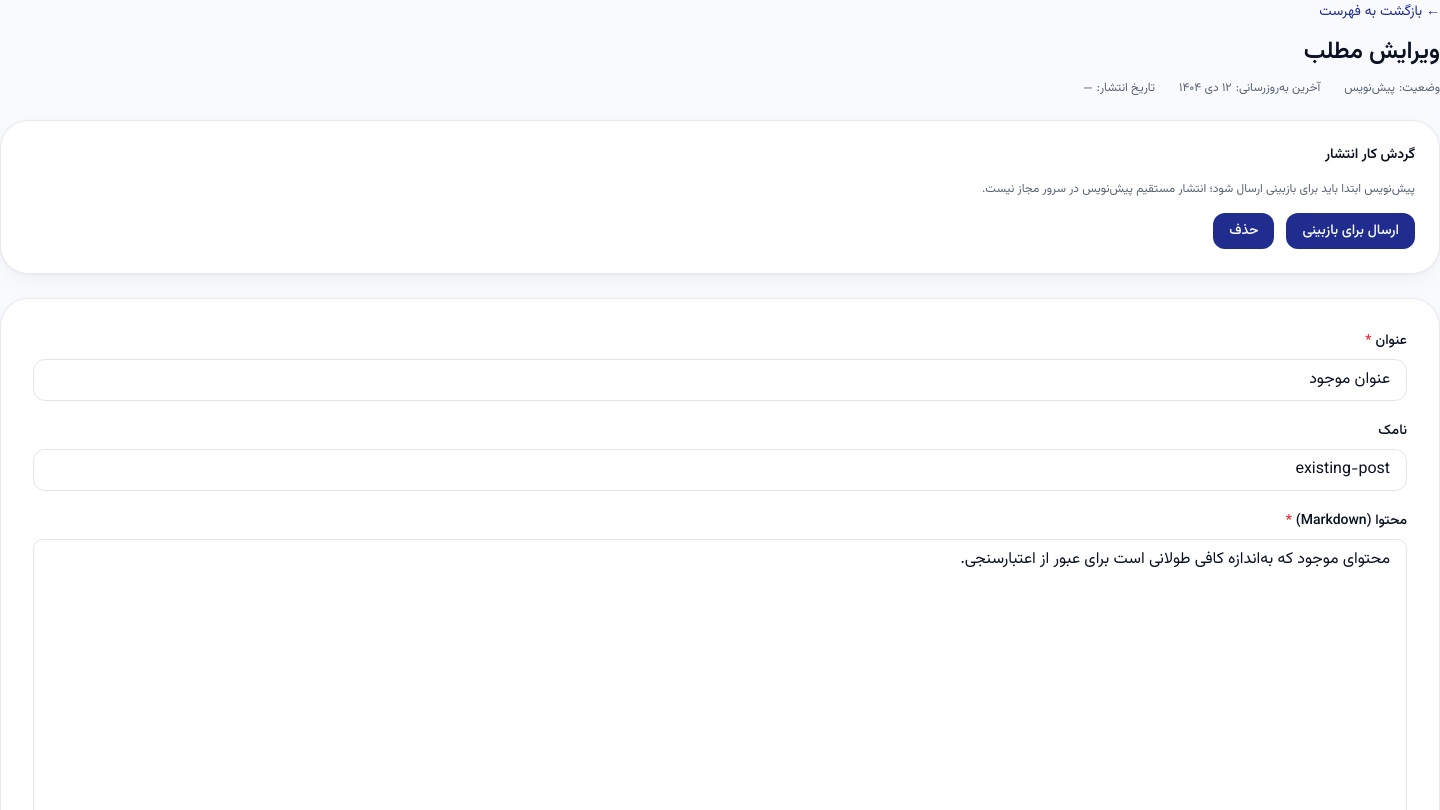
BlogEditForm › sends expectedUpdatedAt and shows a success message
Replace the text in the field showing "عنوان موجود" with "عنوان تازه" at (720,380), box top-left (33, 359), bottom-right (1407, 401)
(page scrolled)
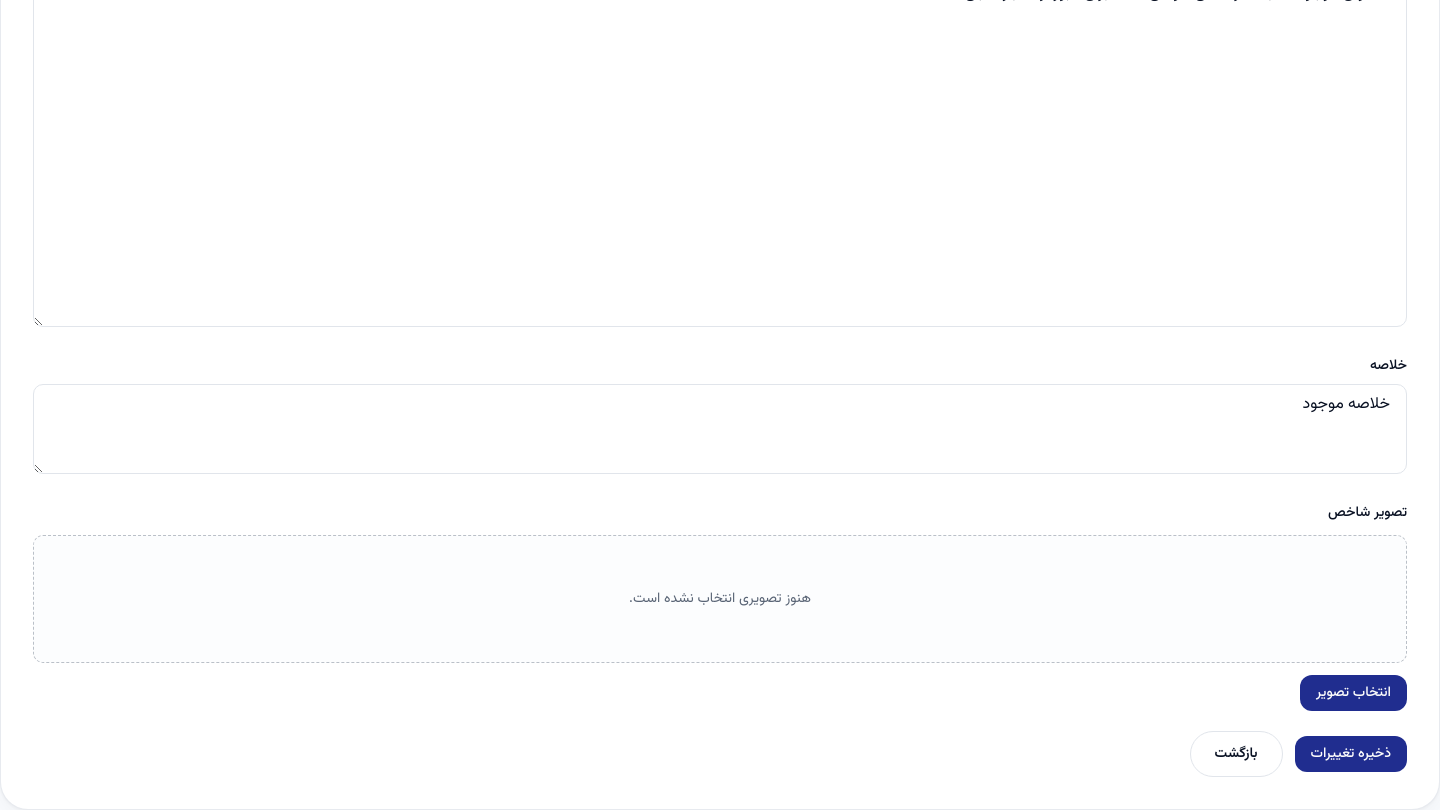
Click the button "ذخیره تغییرات" at (1351,754), box top-left (1295, 736), bottom-right (1407, 772)
(page scrolled)
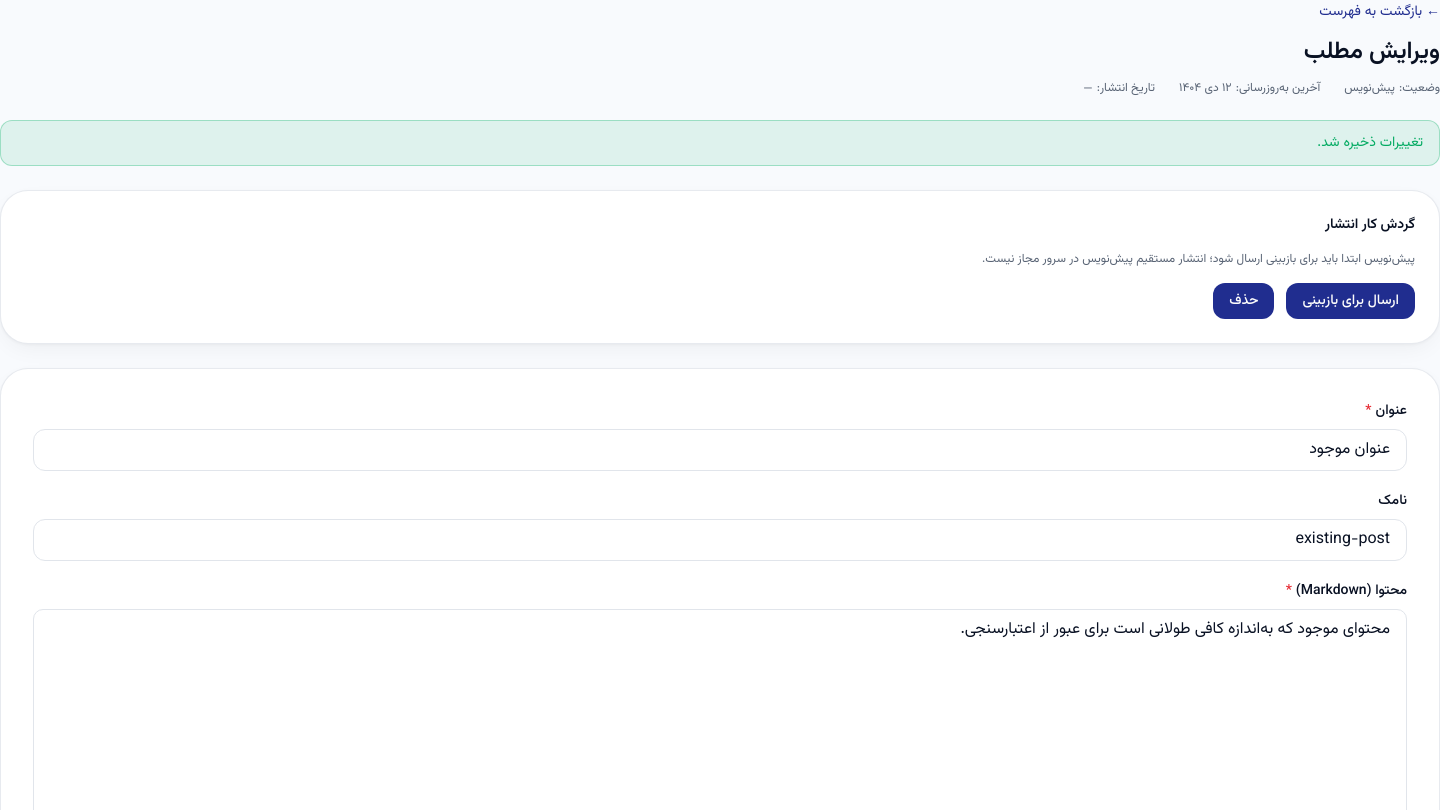
Expected: the text "تغییرات ذخیره شد." is shown, top-left (0, 120), bottom-right (1439, 166)
